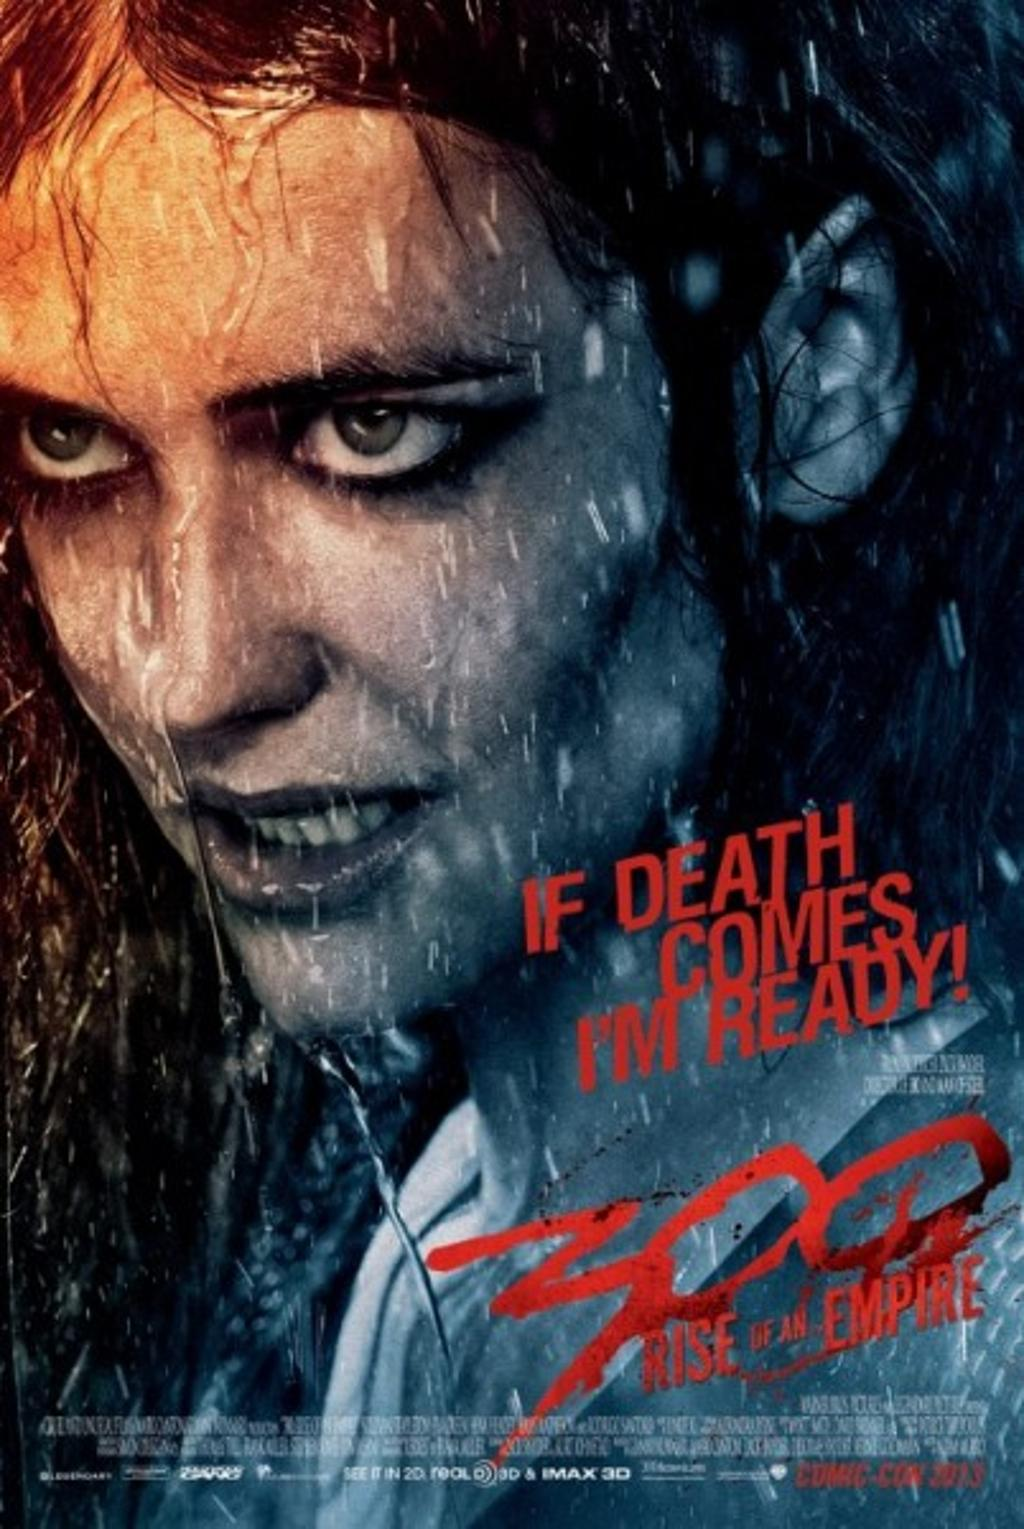face: (9, 102, 752, 1030)
